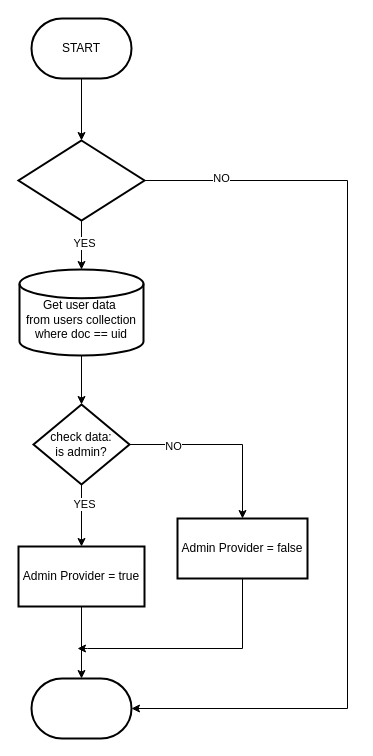
The diagram is 373 pixels wide and 756 high, and some of its shapes have lost their labels. Here are the shapes that lost their labels. From the top down, the centre of each, then its label:
At (81,180): "Is a user logged in?".
At (81,708): "END".
